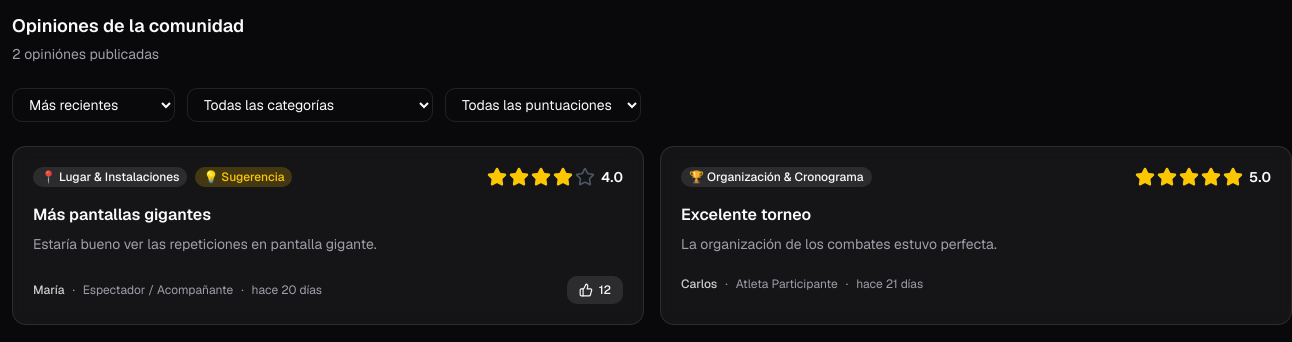
Test: MuroOpiniones Component › debe filtrar correctamente por puntuación de estrellas
Select "★★★★ 4 estrellas" in the dropdown named "Filtrar por estrellas" at (543, 105), box [445,88,641,122]
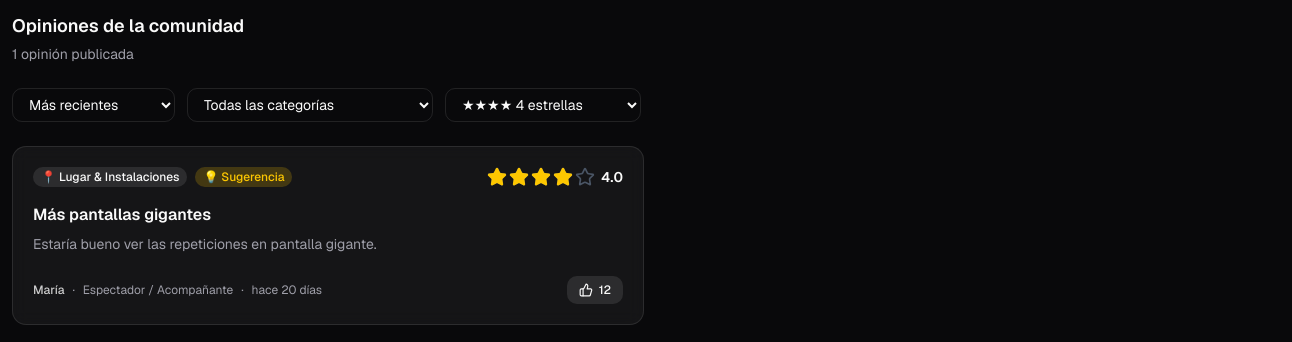
Expected: the heading "Más pantallas gigantes" is shown, [33,204,211,225]
Expected: the heading "Excelente torneo" is gone
